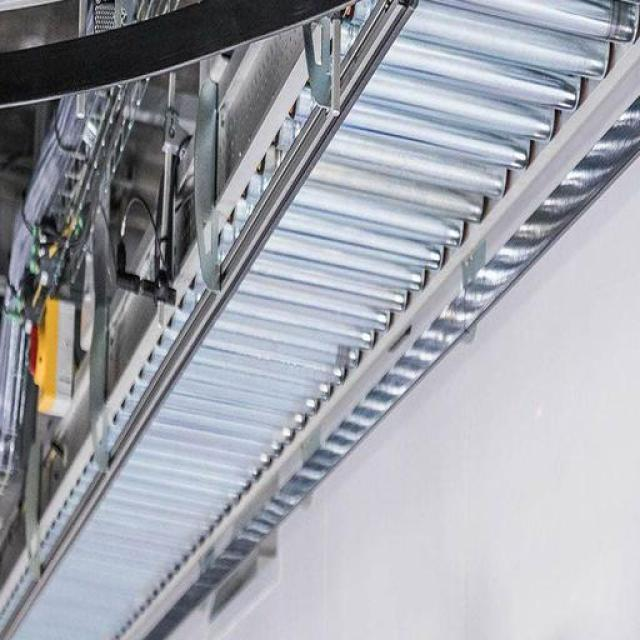conveyor: (1, 0, 640, 640)
